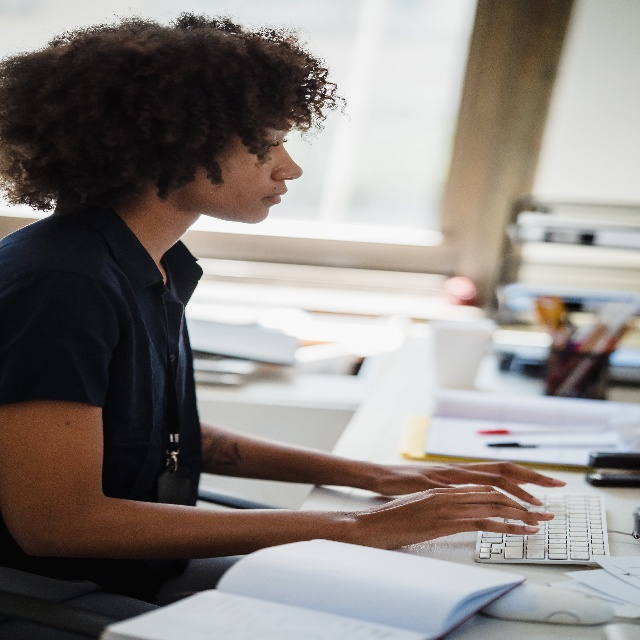Sin_guantes: (355, 484, 556, 552), (383, 459, 568, 495)
